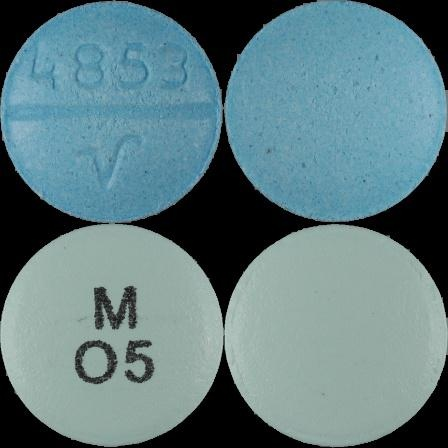76237-216: (0, 0, 224, 224)
